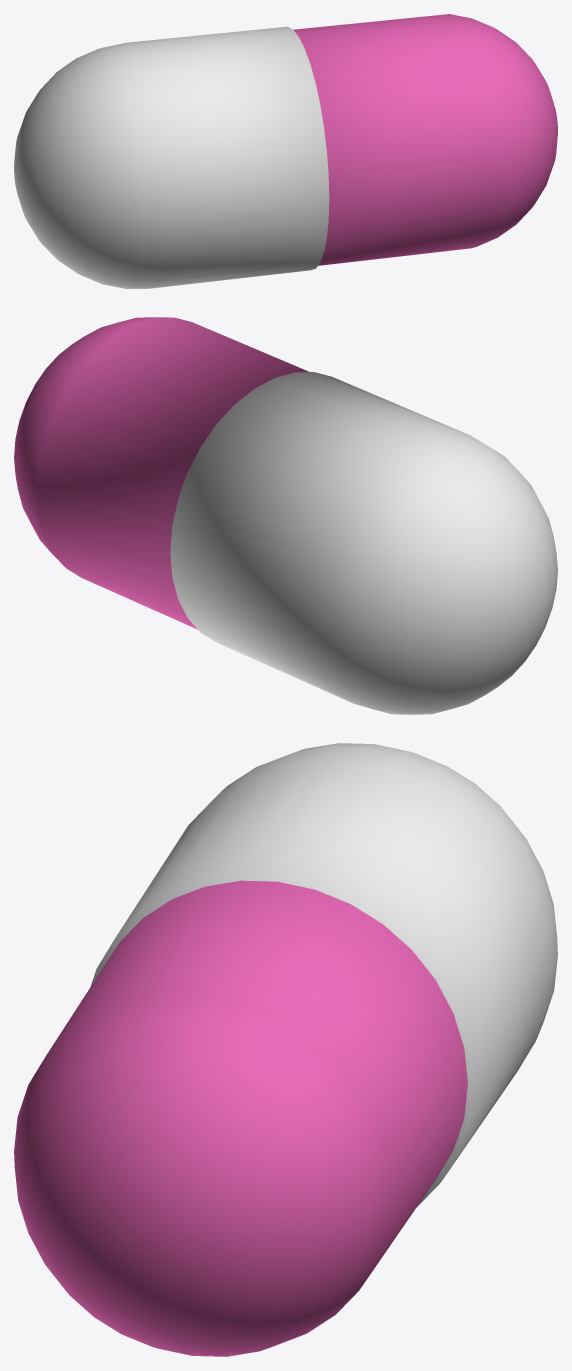
The model's file is Pill.fbx.
3 views of the same model, one above another, from view 1: azimuth 30°, elevation 25°; view 2: azimuth 150°, elevation 25°; view 3: azimuth 270°, elevation 25° (orthographic). The views are drawn at different scales.
Visible parts, largest first — view 1: Sphere.008; view 2: Sphere.008; view 3: Sphere.008.
Part boxes in pixels (left/top/right/bottom): Sphere.008: left=14, top=14, right=557, bottom=288; Sphere.008: left=14, top=317, right=557, bottom=714; Sphere.008: left=14, top=743, right=557, bottom=1356.
Bounding box in the file's own units: 2976 × 1360 × 1800.
